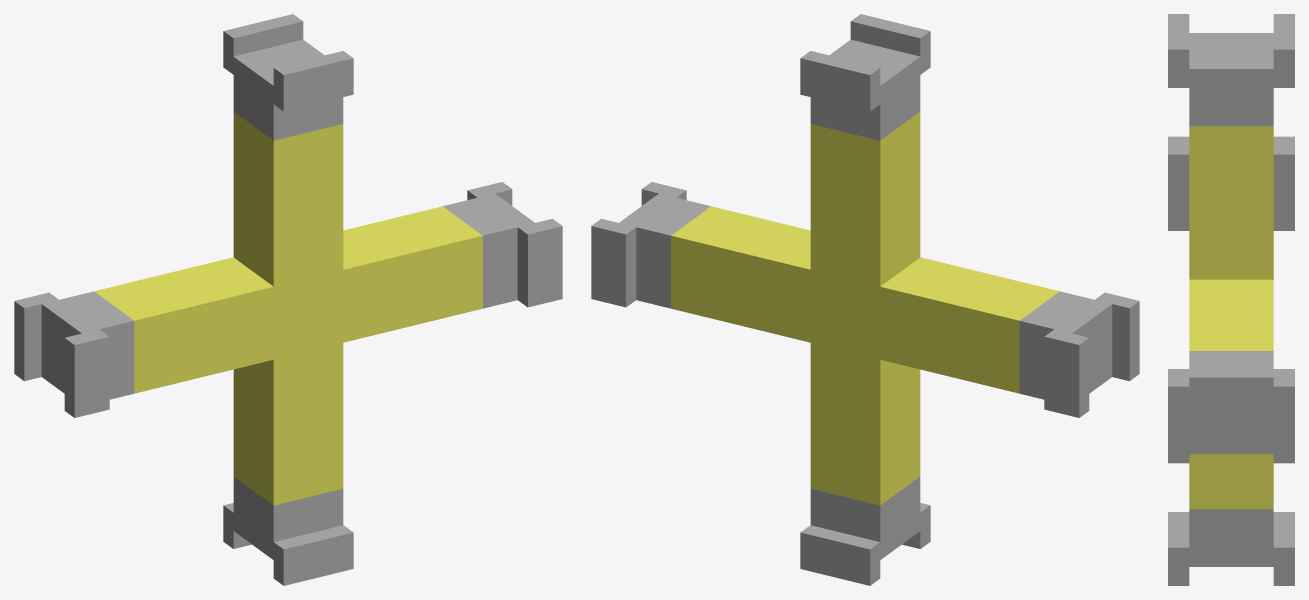
Rendered from tracked robot spinning arms.obj.
The picture shows the model from 3 angles, left to right: view 1: azimuth 30°, elevation 25°; view 2: azimuth 150°, elevation 25°; view 3: azimuth 270°, elevation 25°; orthographic projection. The views are drawn at different scales.
Bounding box in the file's own units: 28 × 28 × 6.
